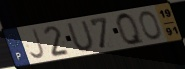2: (43, 25, 72, 58)
7: (88, 17, 111, 51)
J: (29, 27, 47, 60)
O: (138, 10, 163, 41)
Q: (114, 12, 147, 47)
U: (65, 19, 97, 52)
